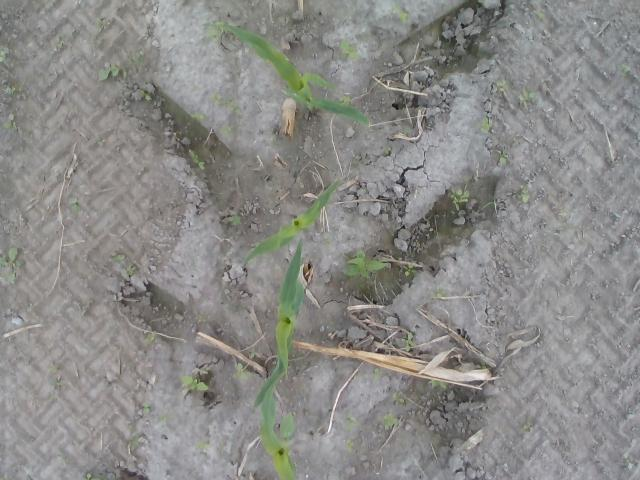Maize: (223, 24, 370, 126), (253, 238, 306, 411), (242, 180, 336, 270), (259, 376, 300, 480)
Weeds: (342, 248, 392, 289), (0, 245, 25, 285), (0, 110, 33, 138), (210, 93, 242, 114), (448, 185, 471, 212), (335, 38, 359, 63), (176, 374, 209, 392), (97, 62, 128, 81), (518, 84, 543, 104), (232, 361, 255, 381), (0, 78, 23, 98), (207, 19, 225, 44), (188, 149, 208, 171), (388, 5, 410, 24), (66, 191, 82, 217), (217, 122, 241, 138), (401, 331, 417, 352), (389, 390, 410, 406), (342, 415, 360, 433), (127, 48, 145, 66), (223, 206, 240, 224), (368, 366, 389, 380), (382, 414, 399, 431), (121, 262, 138, 279), (616, 62, 632, 80), (83, 471, 115, 480), (402, 264, 418, 280), (518, 183, 530, 204), (428, 378, 448, 390), (128, 432, 143, 448), (478, 117, 492, 134), (431, 287, 448, 301), (496, 143, 510, 160), (185, 110, 208, 120), (520, 416, 534, 432), (495, 78, 511, 92), (139, 88, 153, 104), (344, 438, 356, 456), (95, 16, 107, 32), (0, 46, 10, 64), (193, 439, 210, 449), (56, 31, 66, 48), (338, 94, 352, 106), (110, 253, 128, 262), (534, 7, 544, 23), (143, 400, 153, 416), (194, 313, 208, 324), (48, 364, 62, 374), (146, 332, 158, 342), (249, 240, 259, 252), (160, 414, 168, 426), (478, 360, 487, 368), (248, 351, 257, 359), (383, 147, 392, 155), (288, 412, 296, 418)
